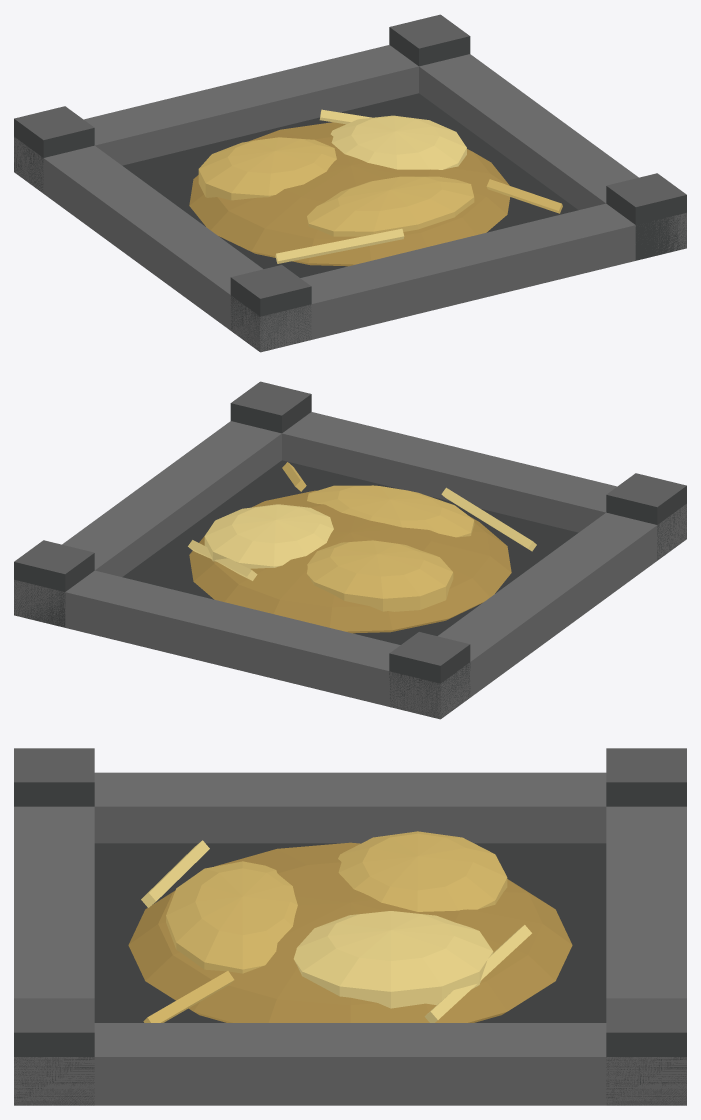
File: Building_AnimalSleepingSpot.glb
3 renders of one model, top to bottom at view 1: azimuth 30°, elevation 25°; view 2: azimuth 150°, elevation 25°; view 3: azimuth 270°, elevation 25°, orthographic. The views are drawn at different scales.
Visible parts, largest first — view 1: AnimalSleepingSpot; view 2: AnimalSleepingSpot; view 3: AnimalSleepingSpot.
Boxes of the visible parts, x1=… form: AnimalSleepingSpot: x1=14, y1=14, x2=686, y2=352; AnimalSleepingSpot: x1=14, y1=381, x2=686, y2=719; AnimalSleepingSpot: x1=14, y1=748, x2=686, y2=1105.
Size of the model in its own units: 1 by 0.16 by 1.
Materials: 1 (1 with a texture image).
